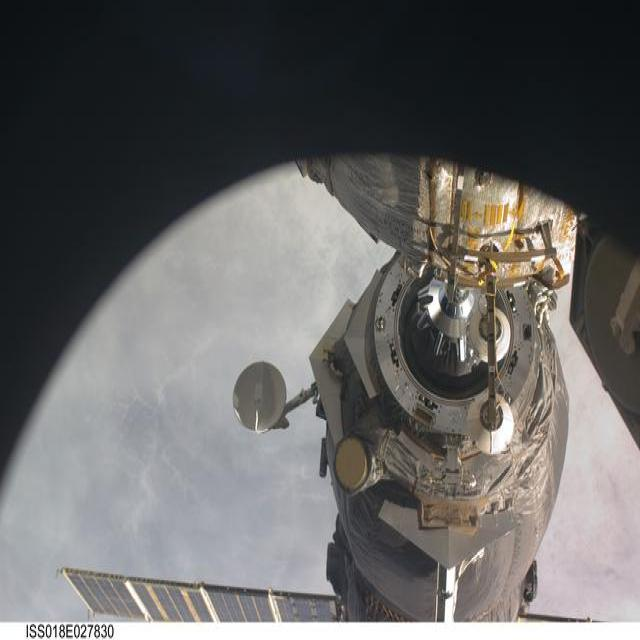satellite: (232, 156, 576, 620)
